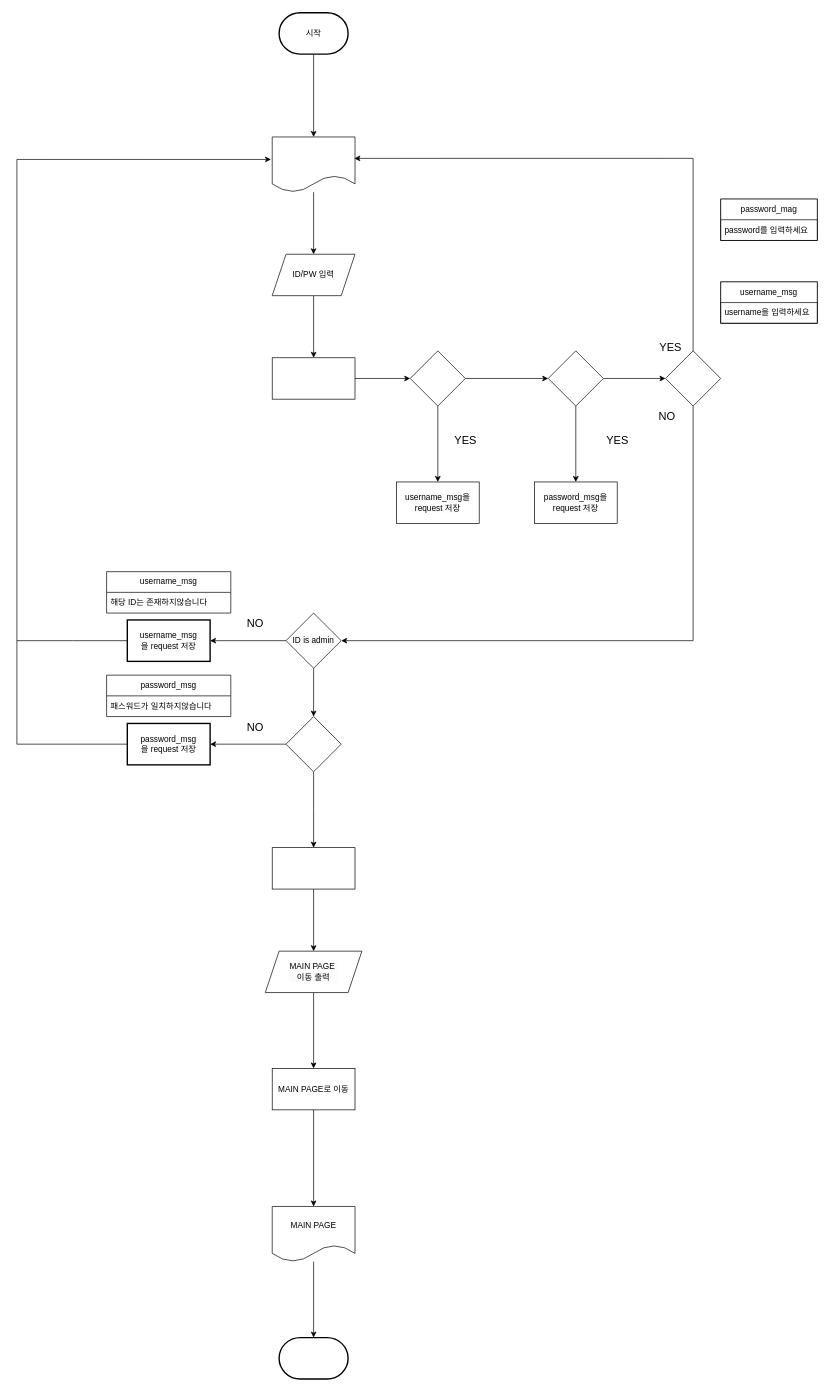
Some shapes in this 829 by 1391 pixel diagram are drawn without their labels. Here are the shapes that lost their labels. From the top down, the centre of each, then its label:
At (313,164): "로그인 폼 (login_form.jsp)".
At (313,378): "유효성 검사 (login.jsp)".
At (437,378): "ID is NULL".
At (575,378): "PW is NULL".
At (693,378): "ID is NULL or PW is NULL".
At (313,744): "PW is 1234".
At (313,868): "사용자 정보를 저장 isAuth/Role".
At (313,1358): "종료".
